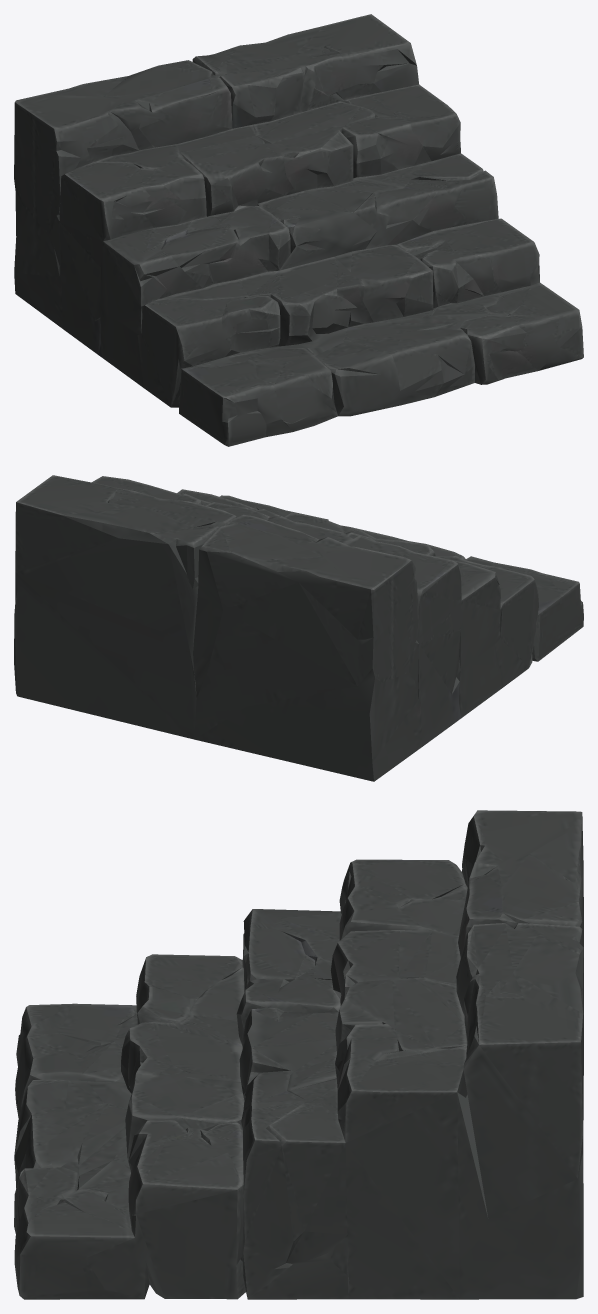
File: stairs_up.glb
3 renders of one model, top to bottom at view 1: azimuth 30°, elevation 25°; view 2: azimuth 150°, elevation 25°; view 3: azimuth 270°, elevation 25°, orthographic. The views are drawn at different scales.
Bounding box in the file's own units: 1.85 × 0.9633 × 1.9.
Materials: 1 (1 with a texture image).
